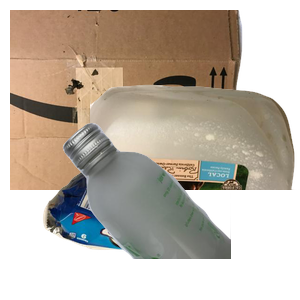cardboard: (10, 10, 245, 190)
glass: (60, 120, 300, 300)
plastic: (90, 82, 300, 262)
trash: (40, 158, 245, 300)
